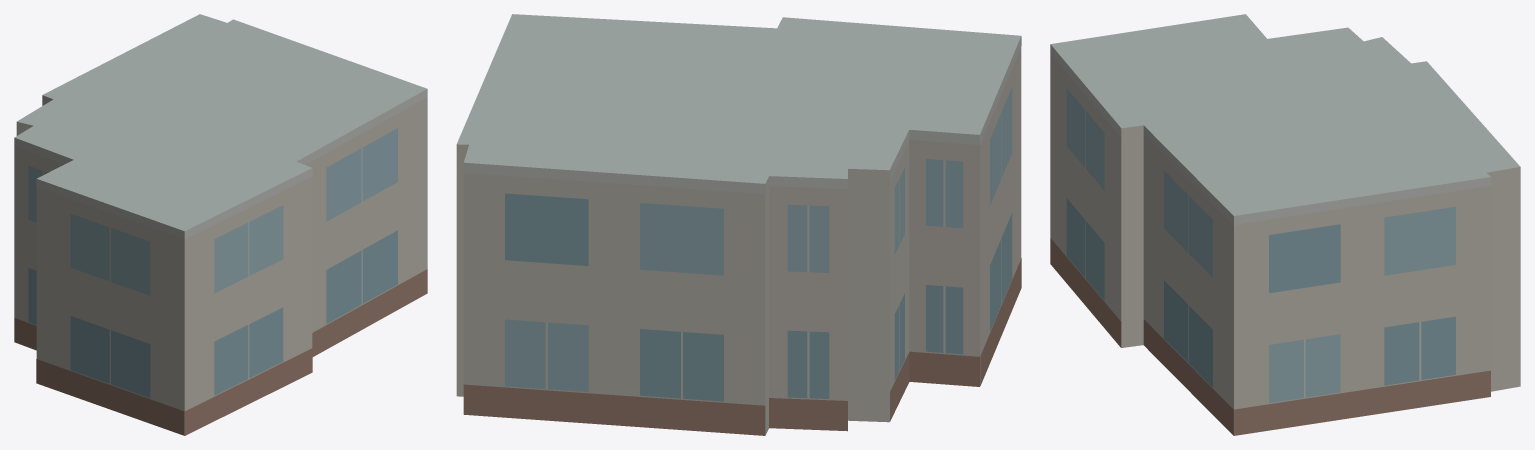
The model's file is survey-upis-32586991.glb.
3 renders of one model, left to right at view 1: azimuth 30°, elevation 25°; view 2: azimuth 150°, elevation 25°; view 3: azimuth 270°, elevation 25°, orthographic. The views are drawn at different scales.
Visible parts, largest first — view 1: survey-upis-32586991.tmp; view 2: survey-upis-32586991.tmp; view 3: survey-upis-32586991.tmp.
Boxes of the visible parts, x1=… form: survey-upis-32586991.tmp: x1=14, y1=14, x2=427, y2=435; survey-upis-32586991.tmp: x1=456, y1=14, x2=1021, y2=435; survey-upis-32586991.tmp: x1=1050, y1=14, x2=1520, y2=435.
Size of the model in its own units: 12.04 by 6.1 by 11.84.
